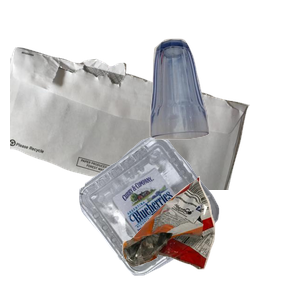glass: (147, 36, 300, 168)
paper: (10, 45, 250, 225)
plastic: (77, 133, 289, 300)
trash: (120, 174, 300, 300)
